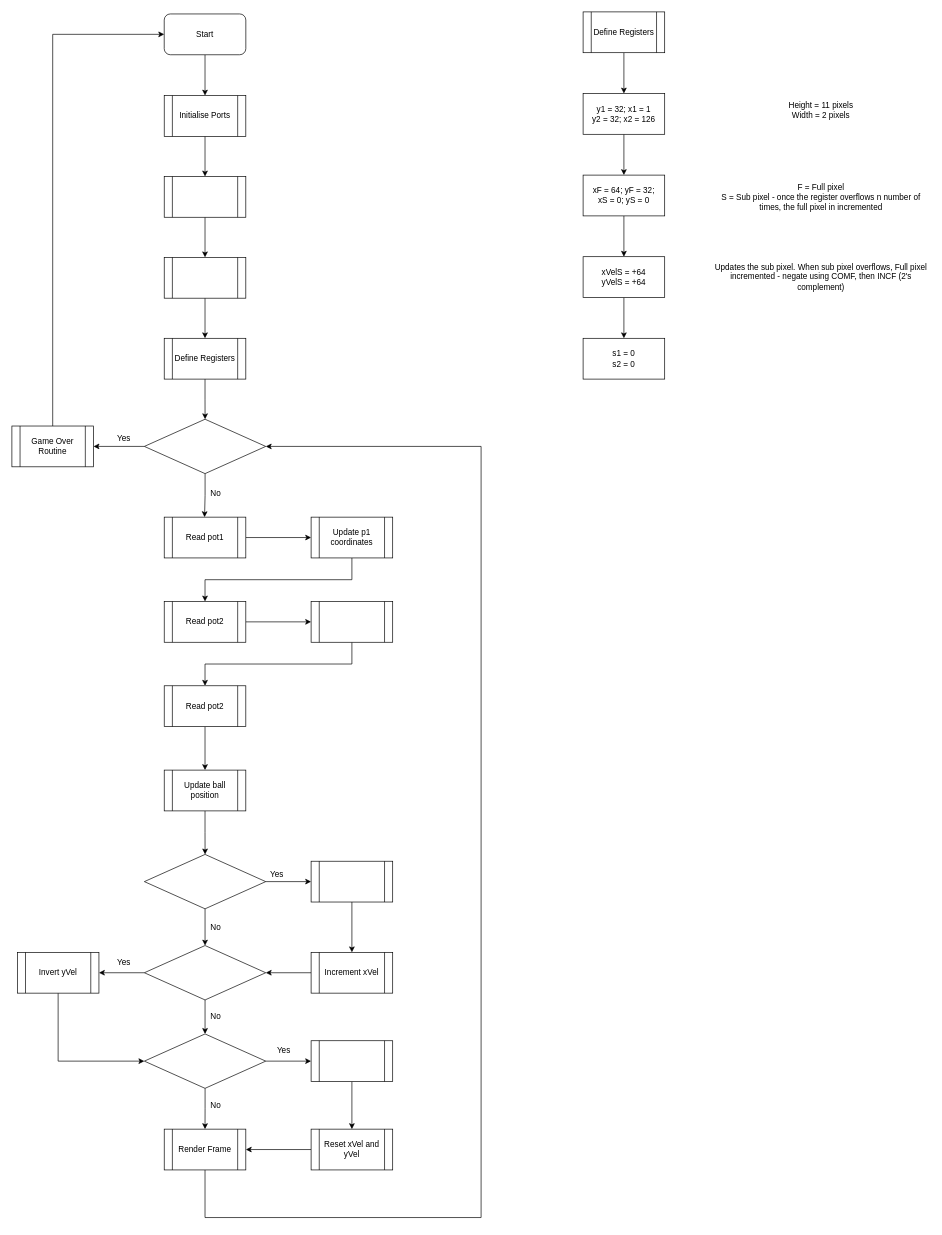
Some shapes in this 942 by 1235 pixel diagram are drawn without their labels. Here are the shapes that lost their labels. From the top down, the centre of each, then its label:
point (205, 196): Configure I2C using PPS
point (205, 277): Initialise Screen
point (205, 446): s1 > 9 or s2 > 9
point (351, 621): Update p2 coordinates
point (205, 881): Colliding with paddle?
point (351, 881): Invert xVel
point (205, 972): Colliding with ceiling?
point (205, 1060): Colliding with wall?
point (351, 1061): Increment opposing paddle score
